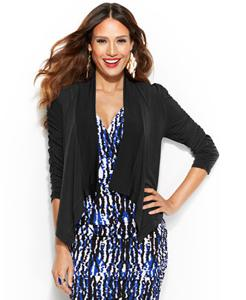C_cardigan sweater: (38, 71, 223, 259)
